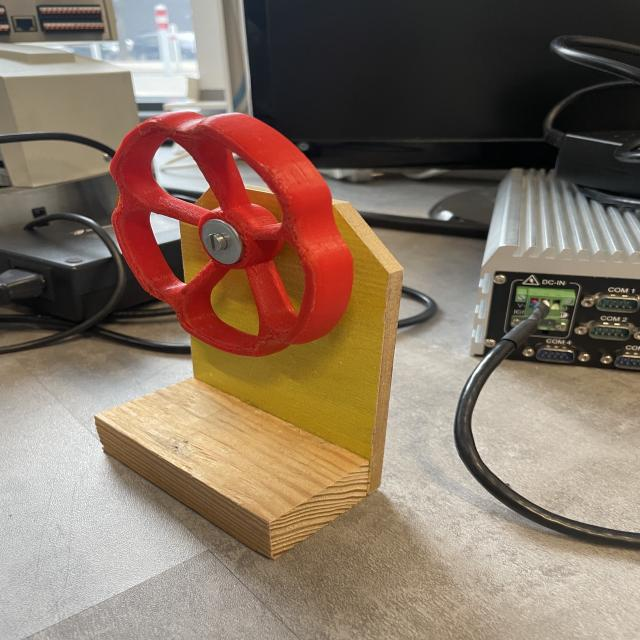Wheel Handle Valve Threaded: (107, 108, 355, 357)
